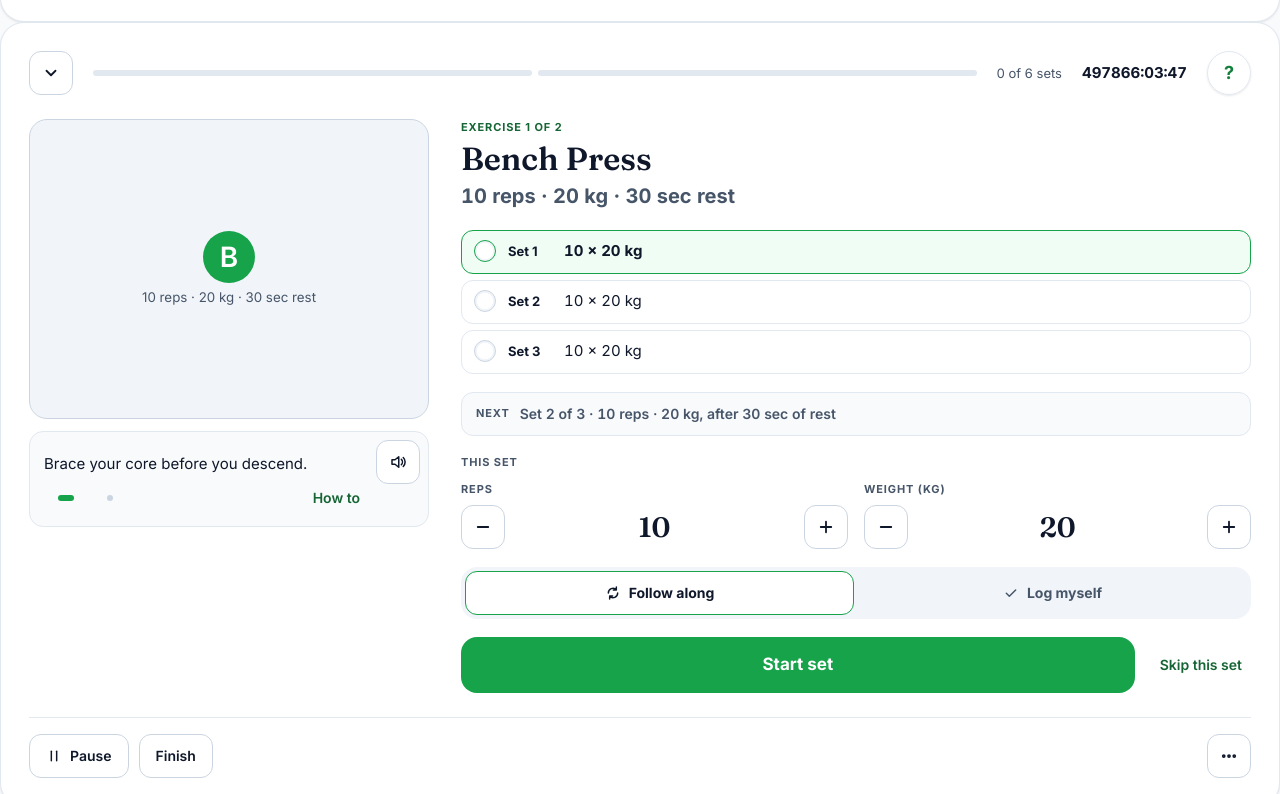
Test case: ExercisePlayerComponent › a session started from a weekly plan › working through the sets › following along › opens the set that was just done from the rest, to correct it
The image size is (1280, 794).
(page scrolled)
Click the button with class "start-set" below "Set 3". click: (798, 665)
box: [461, 637, 1135, 693]
(page scrolled)
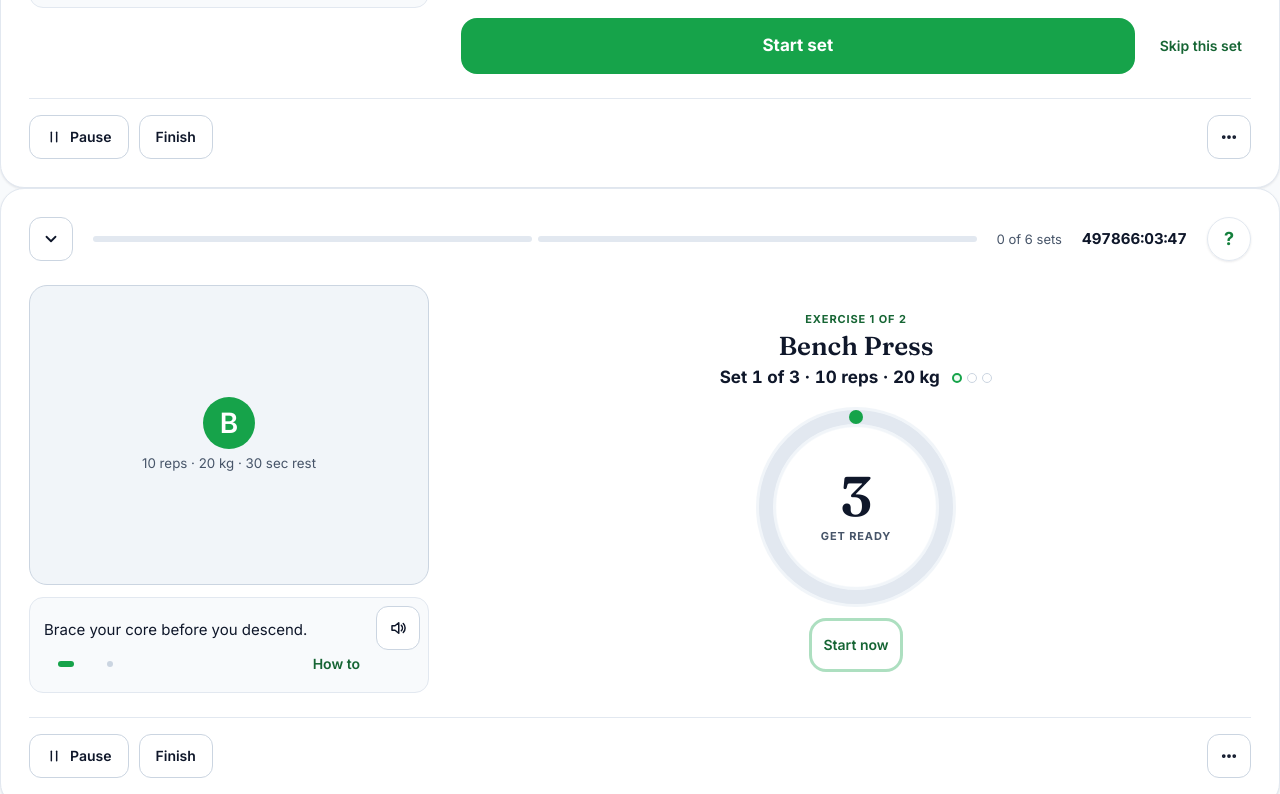
Click the button "Start now". click: (856, 645)
box: [814, 623, 898, 667]
Wait 32200 ms
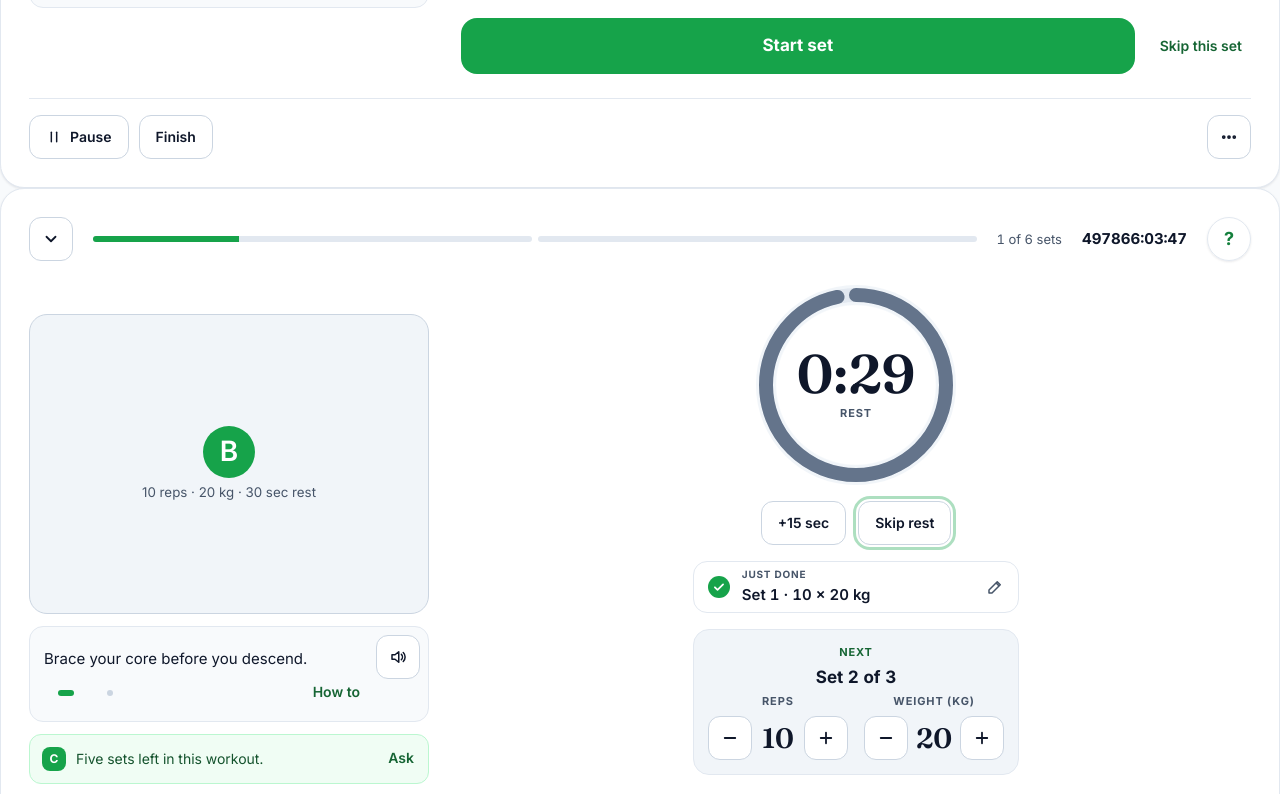
Click the button with class "just-done". click: (856, 587)
box: [693, 561, 1019, 613]
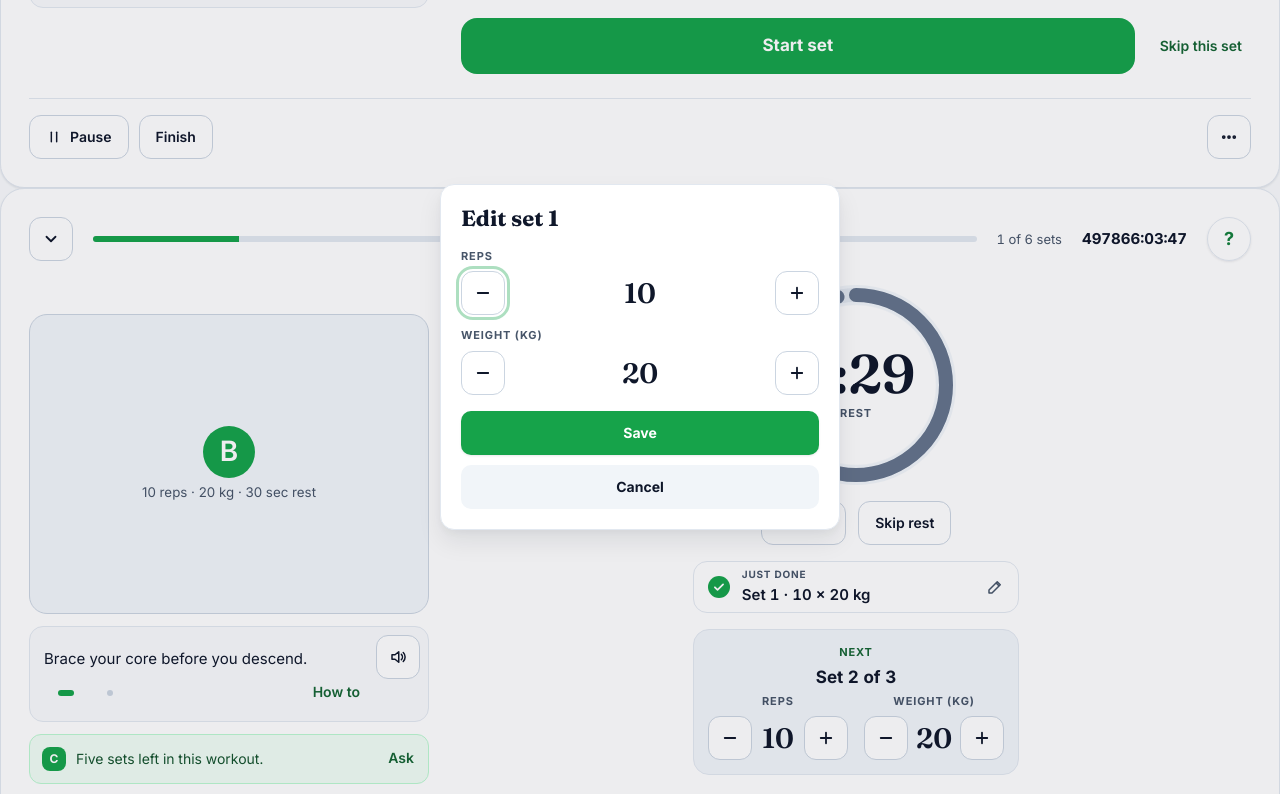
expect the heading "Edit set 1" is shown: met, box [461, 204, 559, 232]
